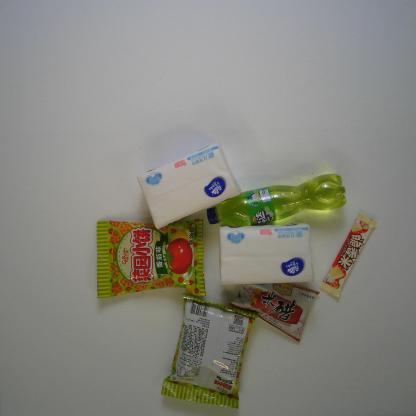Chocolate: (319, 213, 379, 298)
Drink: (206, 173, 348, 227)
Puffed Food: (160, 292, 259, 410), (95, 216, 207, 298)
Seasoner: (228, 283, 320, 342)
Tissue: (136, 141, 242, 230), (218, 221, 316, 286)
